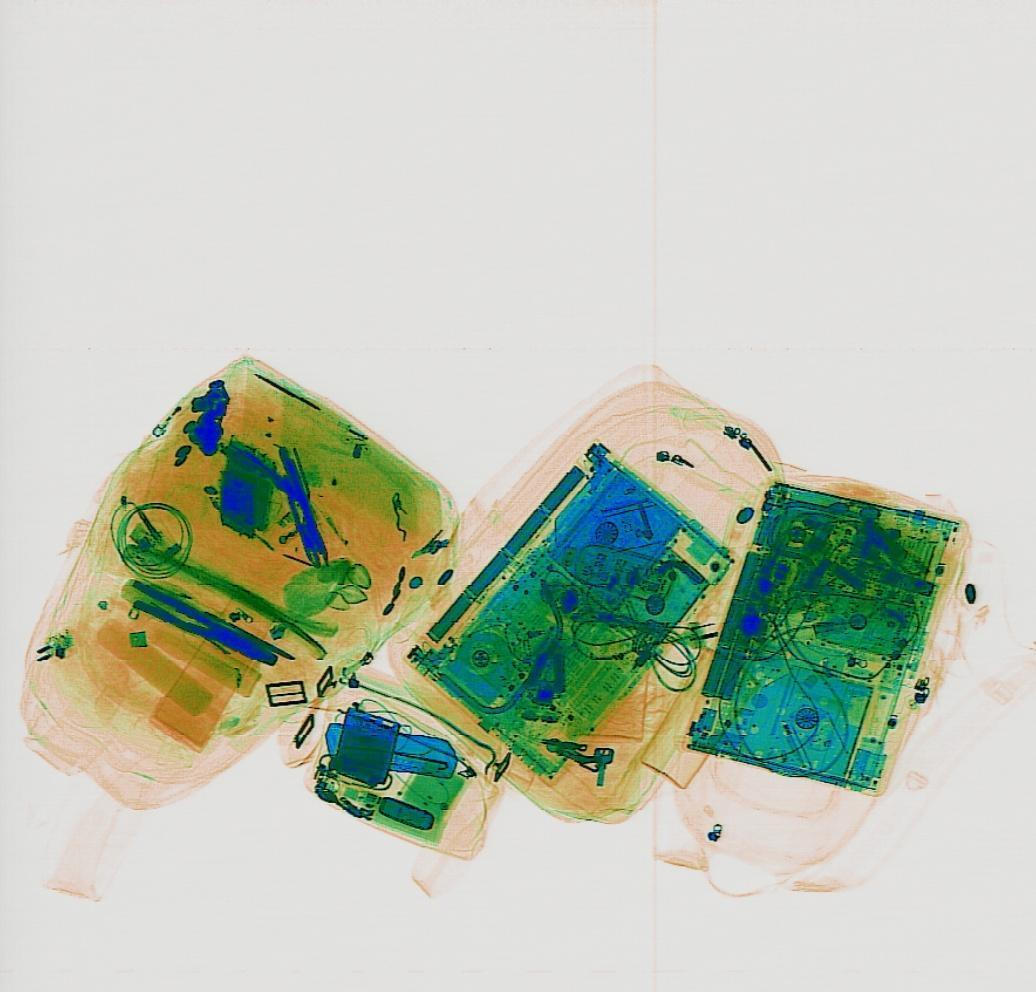Pliers: (117, 576, 283, 677)
